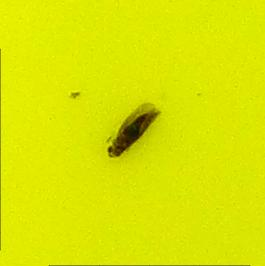Homoptera: (108, 111, 158, 158)
